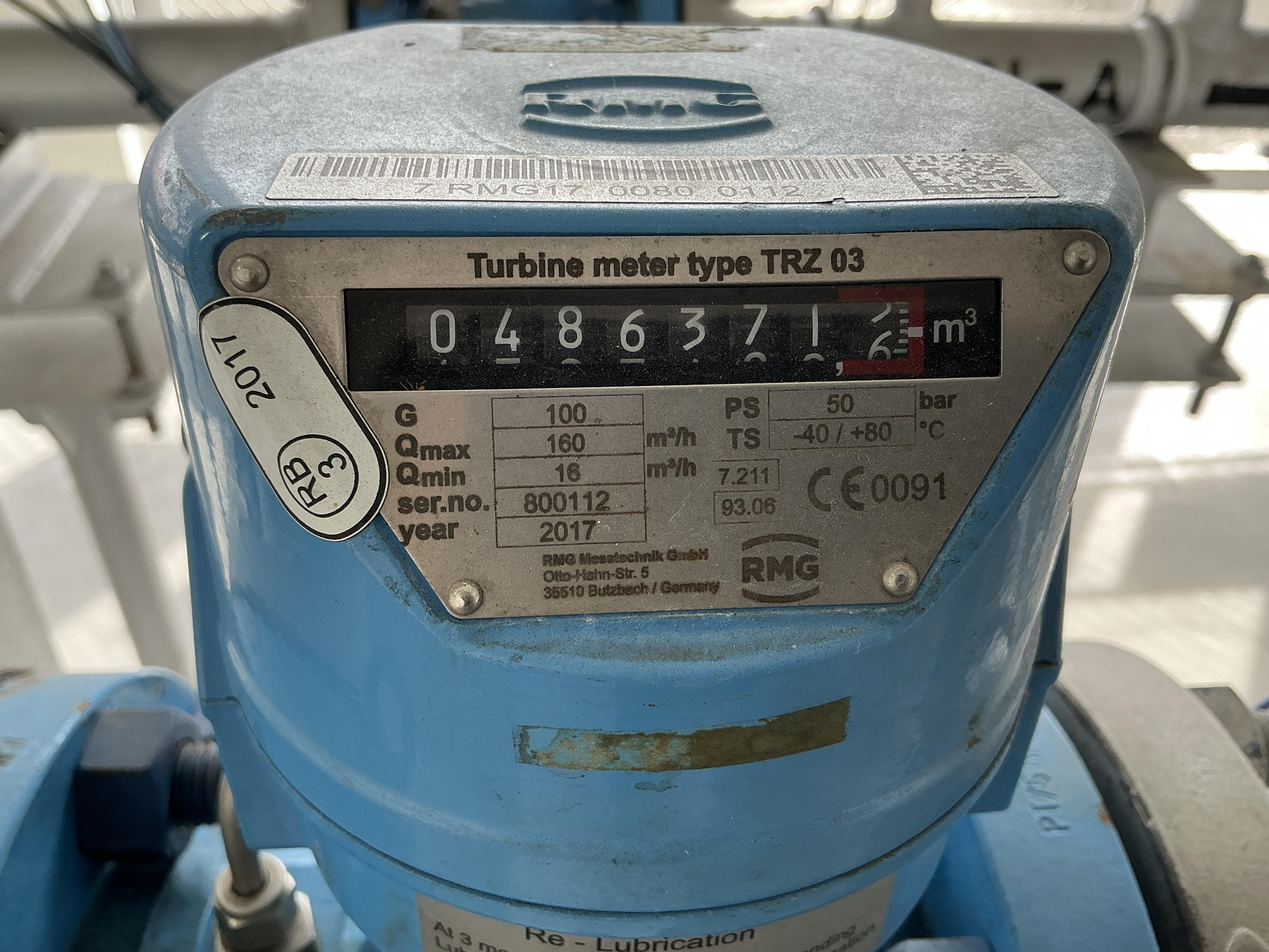analog_dial: (398, 284, 930, 386)
